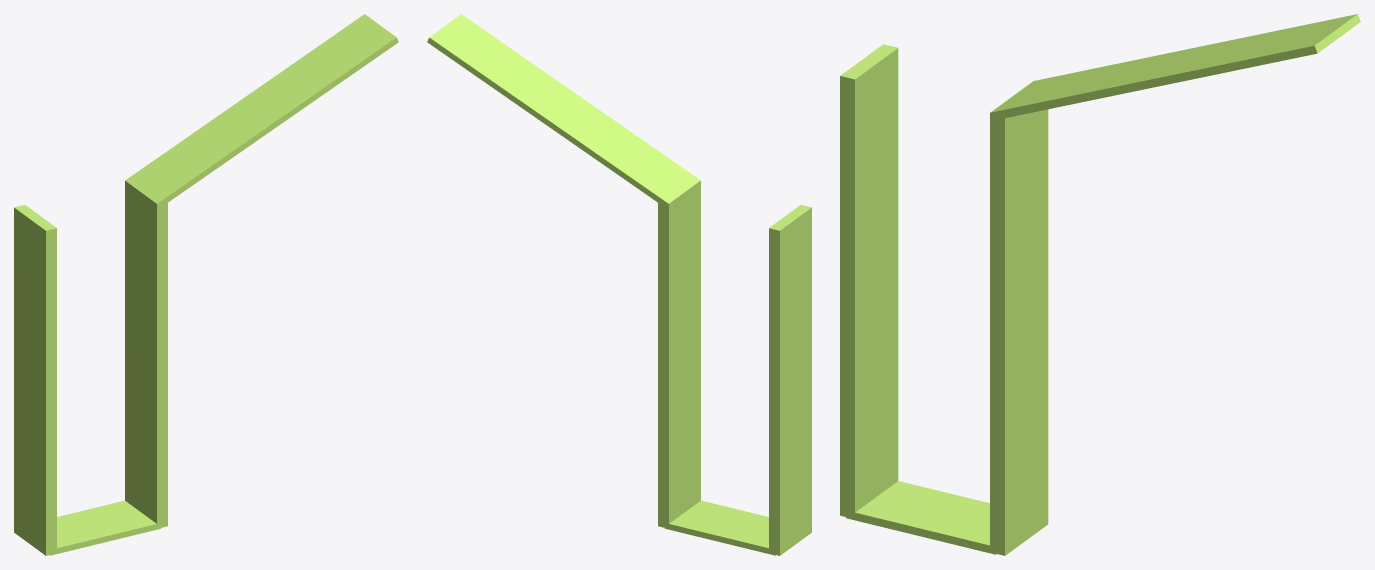
File: Safe.fbx
3 renders of one model, left to right at view 1: azimuth 30°, elevation 25°; view 2: azimuth 150°, elevation 25°; view 3: azimuth 330°, elevation 25°, orthographic. The views are drawn at different scales.
Parts seen in each view (by area): view 1: GameObject, Cube__1_, Cube, Cube__3_, Cube__2_; view 2: GameObject, Cube__1_, Cube, Cube__3_, Cube__2_; view 3: GameObject, Cube__1_, Cube__3_, Cube, Cube__2_.
Boxes of the visible parts, bbox=[...] form: GameObject: bbox=[16, 37, 398, 555]; Cube__1_: bbox=[14, 205, 56, 555]; Cube: bbox=[125, 180, 167, 528]; Cube__3_: bbox=[158, 14, 396, 207]; Cube__2_: bbox=[50, 500, 160, 555]; GameObject: bbox=[427, 37, 811, 555]; Cube__1_: bbox=[769, 205, 811, 555]; Cube: bbox=[658, 180, 700, 528]; Cube__3_: bbox=[428, 14, 667, 206]; Cube__2_: bbox=[664, 500, 768, 547]; GameObject: bbox=[840, 15, 1360, 555]; Cube__1_: bbox=[840, 44, 898, 512]; Cube__3_: bbox=[993, 14, 1357, 119]; Cube: bbox=[990, 112, 1004, 555]; Cube__2_: bbox=[846, 481, 989, 551].
Bounding box in the file's own units: 637 × 748 × 100.
